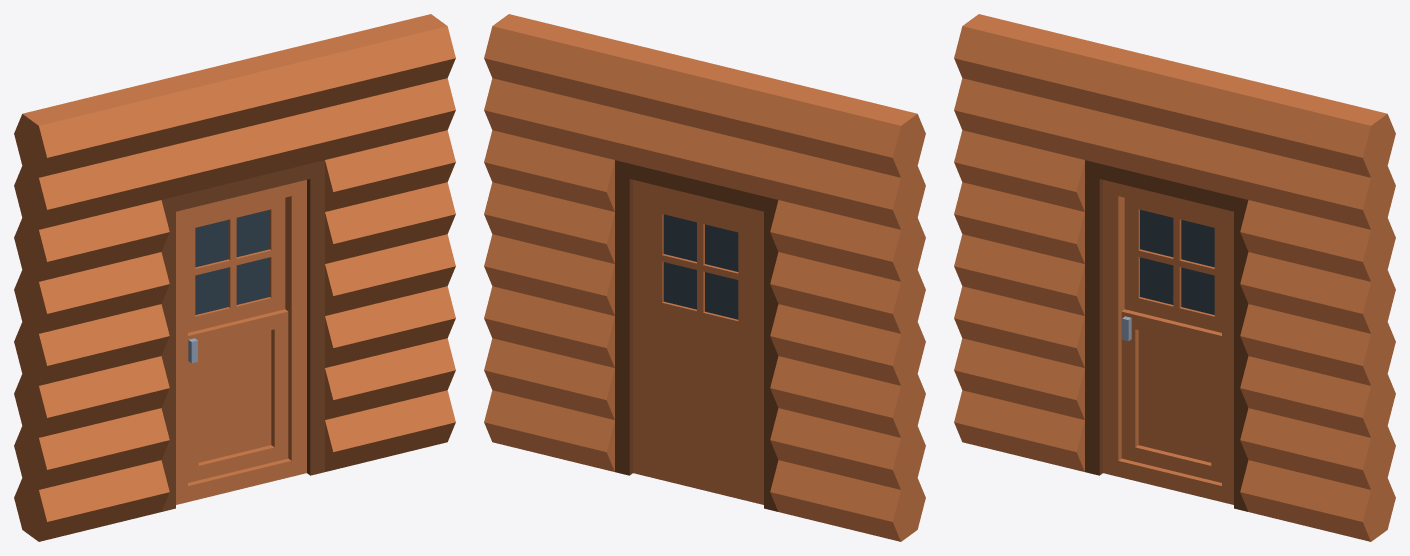
Rendered from cabinDoor.dae.
3 renders of one model, left to right at view 1: azimuth 30°, elevation 25°; view 2: azimuth 150°, elevation 25°; view 3: azimuth 330°, elevation 25°, orthographic.
Visible parts, largest first — view 1: cabinDoor, door; view 2: cabinDoor, door; view 3: cabinDoor, door.
Boxes of the visible parts, box(x1,y1,x2,y2) form: cabinDoor: box(14, 14, 455, 541); door: box(176, 180, 306, 504); cabinDoor: box(484, 14, 925, 541); door: box(633, 180, 763, 504); cabinDoor: box(954, 14, 1395, 541); door: box(1103, 180, 1233, 504).
Bounding box in the file's own units: 1 × 0.9727 × 0.1404.
